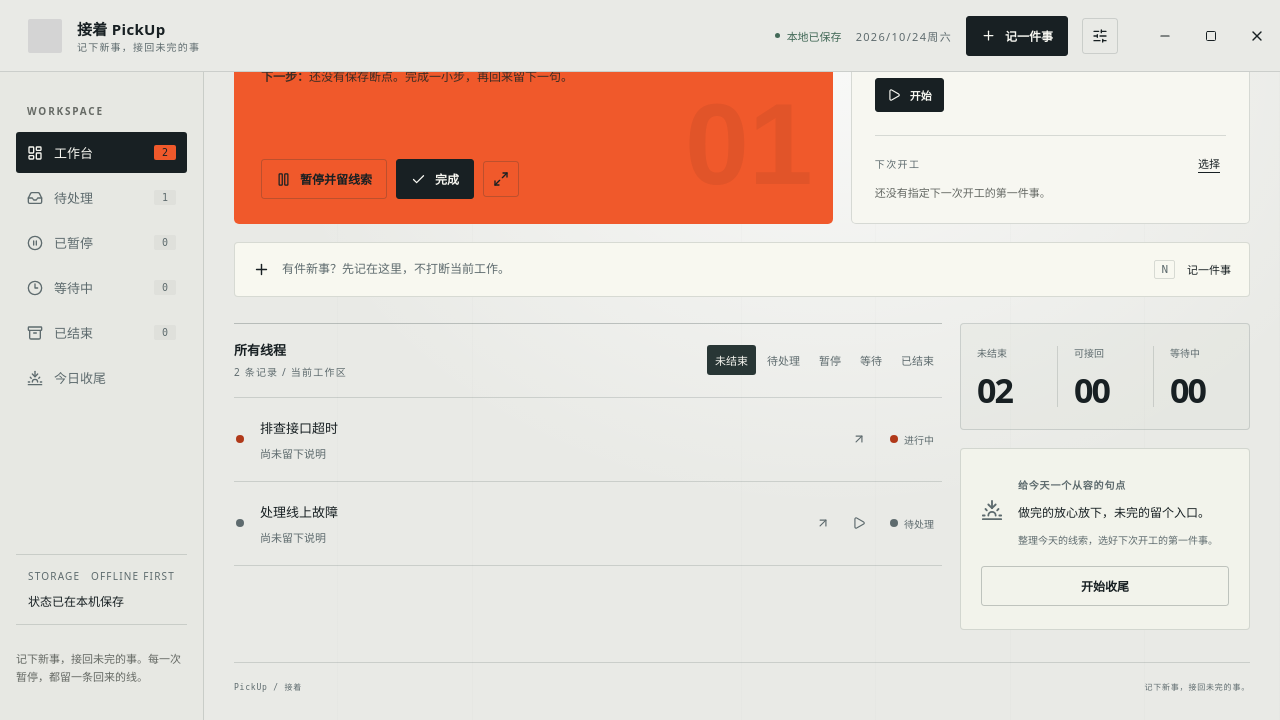
Test: opens switch flow when starting another task while one is current
The width and height of the screenshot is (1280, 720).
(page scrolled)
Click the button named "开始或继续": click(859, 523) 844,508 -> 874,538
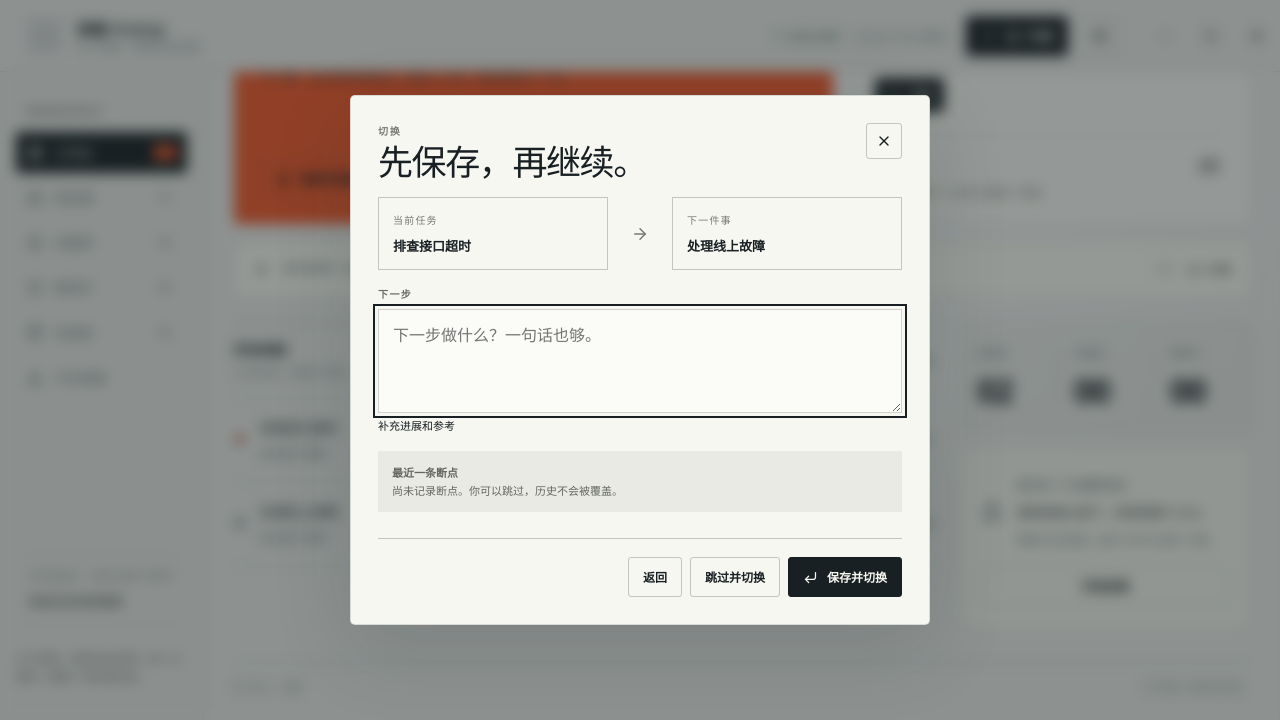
Expected: the heading "先保存，再继续。" is shown, 378,145 -> 647,179
Expected: the text "下一件事" is shown, 687,213 -> 732,227
